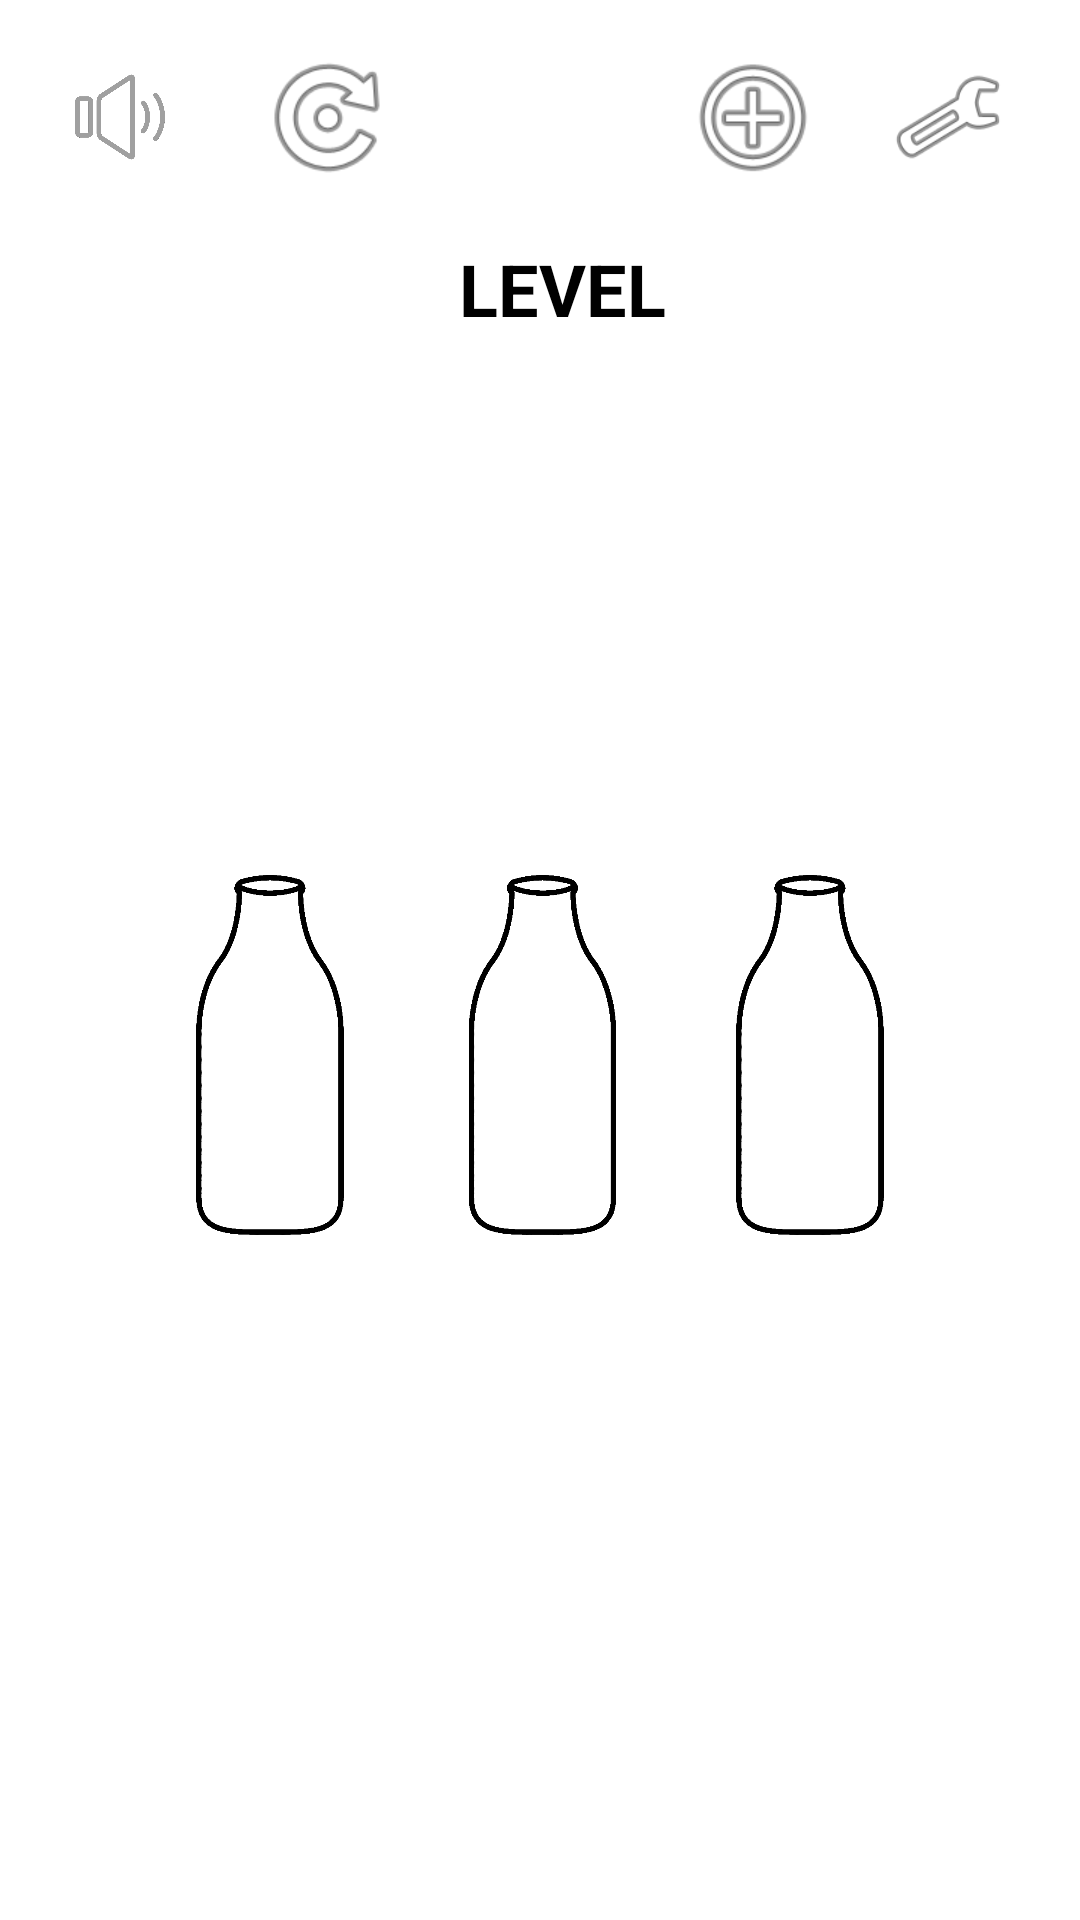

Screen size 1080 x 1920. Icon name, then its box in pixels as (x1, y1, x2, y2):
add: (699, 64, 807, 171)
bottle: (196, 875, 344, 1235), (469, 875, 616, 1235), (736, 875, 884, 1235)
manage: (896, 76, 999, 158)
rotate: (274, 64, 380, 172)
sound: (75, 74, 165, 160)
